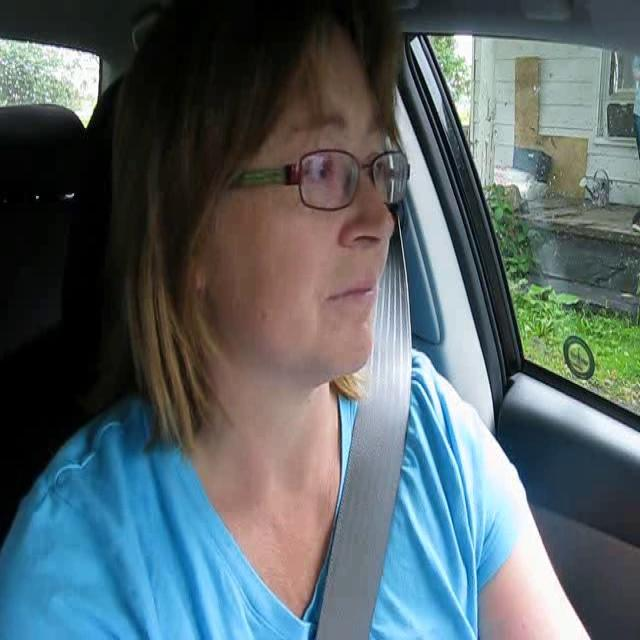close: (322, 267, 382, 318)
